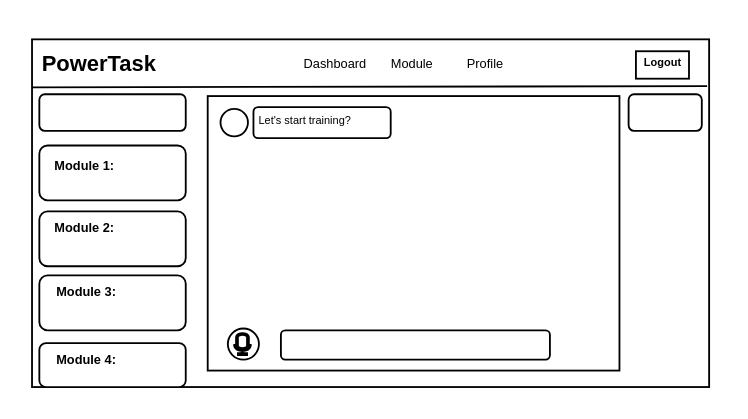
Image size: 748x419. Some labels were removed from this diagram. Each missing label, with the centre of its shape:
Points:: point (664, 111)
Sales and Lead: point (112, 111)
Type.........: point (414, 344)
